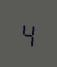four: (19, 19, 35, 47)
